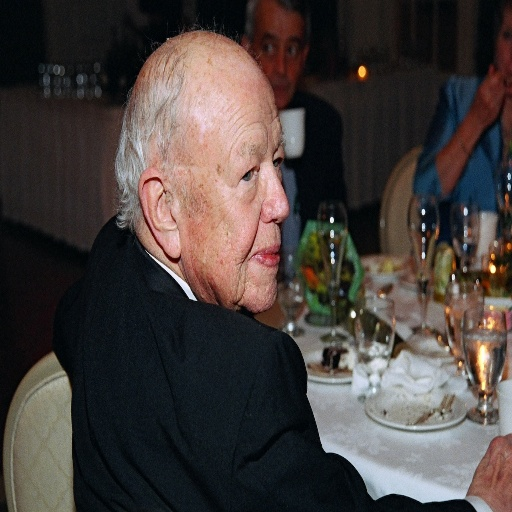hand: (471, 439, 512, 512), (470, 60, 503, 133), (499, 72, 511, 137)
